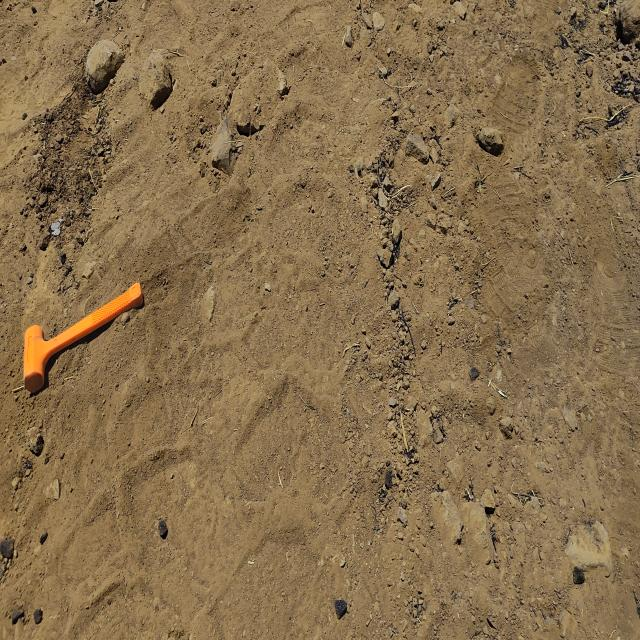Orange_hammer: (23, 280, 144, 394)
